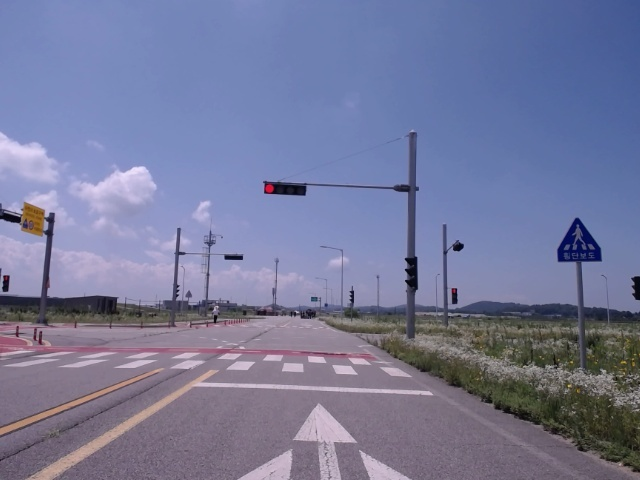red_4: (264, 184, 306, 196)
